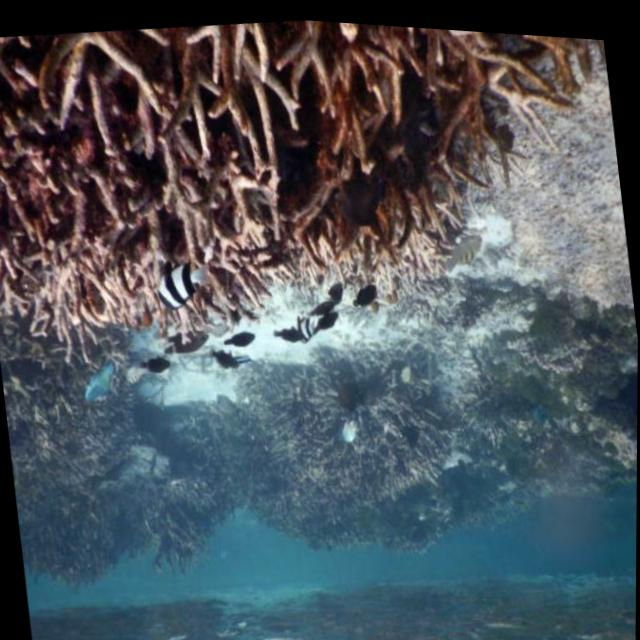Dead Coral: (0, 7, 281, 382)
